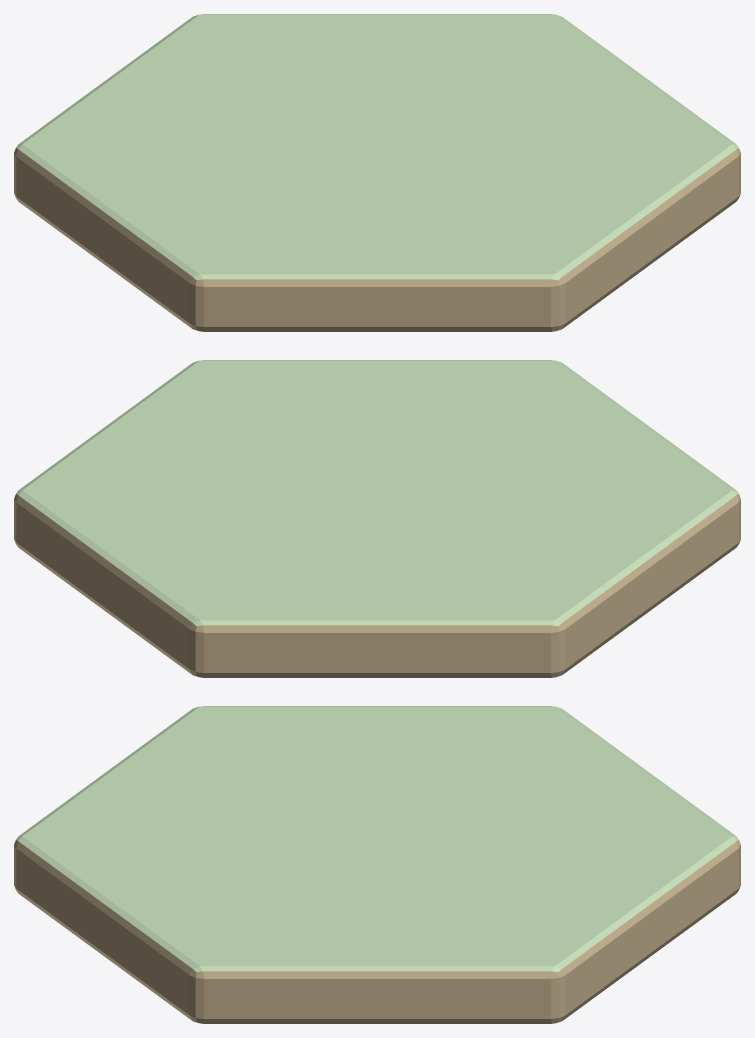
Rendered from hex_plains.glb.
3 views of the same model, one above another, from view 1: azimuth 30°, elevation 25°; view 2: azimuth 150°, elevation 25°; view 3: azimuth 270°, elevation 25° (orthographic).
Parts seen in each view (by area): view 1: hex_plains; view 2: hex_plains; view 3: hex_plains.
Part boxes in pixels (<box>): hex_plains: <box>14,14,740,331</box>; hex_plains: <box>14,360,740,677</box>; hex_plains: <box>14,706,740,1023</box>.
Bounding box in the file's own units: 1 × 0.1 × 1.15.
